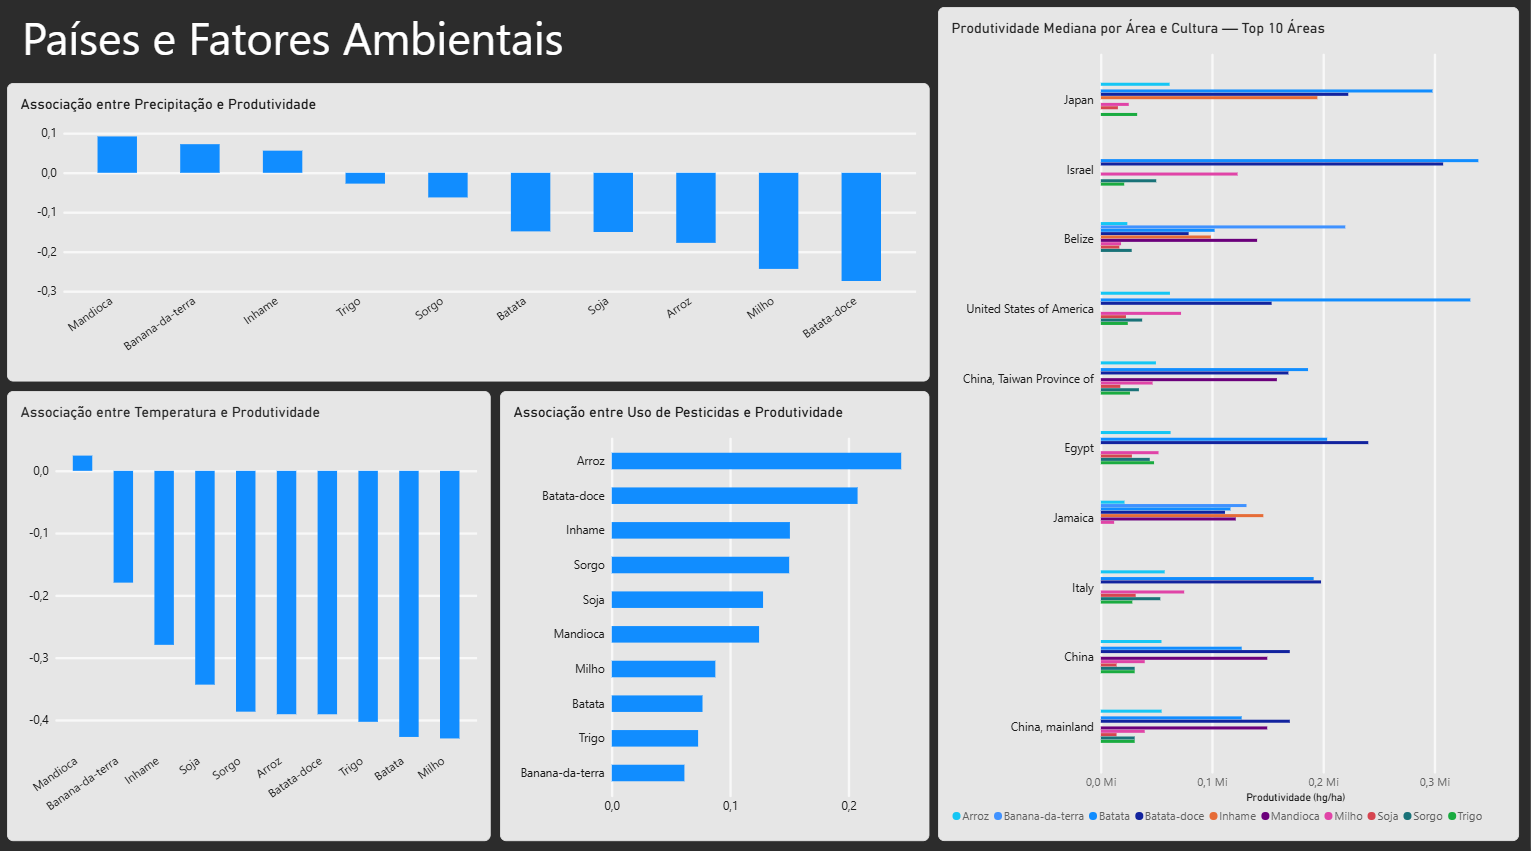

What the dashboard file says about the page in this screenshot:
{"tool":"powerbi","page":{"name":"Países e Fatores Ambientais","canvas":[1920,1080],"ordinal":3},"visuals":[{"type":"clusteredColumnChart","title":"Associação entre Precipitação e Produtividade","fields":{"Category":["Dim_Cultura.Cultura"],"Y":["Sum(indicadores_associacao.correlacao_chuva)"]},"box":[11,114.5,1155.9,373.8],"z":4},{"type":"clusteredBarChart","title":"Associação entre Uso de Pesticidas e Produtividade","fields":{"Category":["Dim_Cultura.Cultura"],"Y":["Sum(indicadores_associacao.correlacao_pesticidas)"]},"box":[629,499.3,537.9,564.1],"z":5},{"type":"clusteredColumnChart","title":"Associação entre Temperatura e Produtividade","fields":{"Category":["Dim_Cultura.Cultura"],"Y":["Sum(indicadores_associacao.correlacao_temperatura)"]},"box":[11,499.3,605.5,564.1],"z":6},{"type":"clusteredBarChart","title":"Produtividade Mediana por Área e Cultura — Top 10 Áreas","fields":{"Category":["indicadores_pais.Area"],"Series":["Dim_Cultura.Cultura"],"Y":["Sum(indicadores_pais.produtividade_mediana)"]},"box":[1177.9,19.3,727.8,1044.7],"z":7},{"type":"textbox","box":[30.3,19.3,867.6,95.2],"z":8}]}

Visuals, with their boxes in screenshot pixels (x1, y1, x2, y2), scaled from the page's 1920x1080 canvas onto the 1531x851 screenshot:
"Associação entre Precipitação e Produtividade" clusteredColumnChart: 9:90:930:385
"Associação entre Uso de Pesticidas e Produtividade" clusteredBarChart: 502:393:930:838
"Associação entre Temperatura e Produtividade" clusteredColumnChart: 9:393:492:838
"Produtividade Mediana por Área e Cultura — Top 10 Áreas" clusteredBarChart: 939:15:1520:838
textbox: 24:15:716:90
